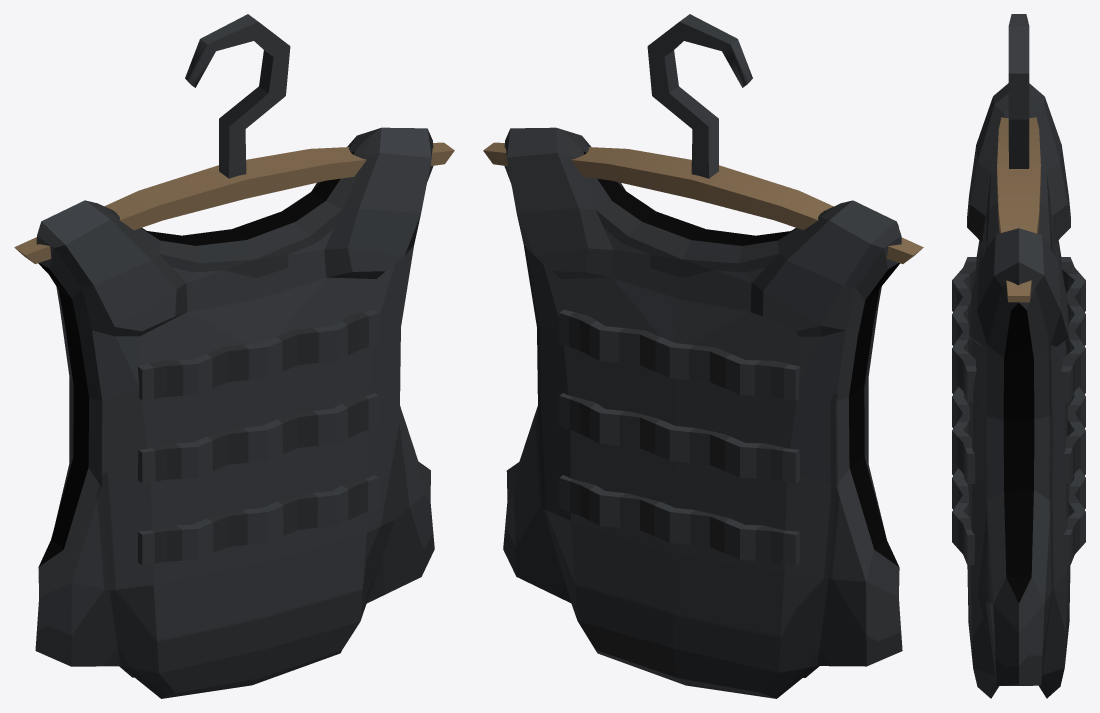
Rendered from SM_Prop_BulletProof_Vest_01.fbx.
3 renders of one model, left to right at view 1: azimuth 30°, elevation 25°; view 2: azimuth 150°, elevation 25°; view 3: azimuth 270°, elevation 25°, orthographic.
Visible parts, largest first — view 1: SM_Prop_BulletProof_Vest_01; view 2: SM_Prop_BulletProof_Vest_01; view 3: SM_Prop_BulletProof_Vest_01.
Part boxes in pixels (box(x1,y1,x2,y2)): SM_Prop_BulletProof_Vest_01: box(14, 14, 454, 698); SM_Prop_BulletProof_Vest_01: box(483, 14, 923, 698); SM_Prop_BulletProof_Vest_01: box(952, 14, 1085, 698).
Bounding box in the file's own units: 49.9 × 72.37 × 13.58.
